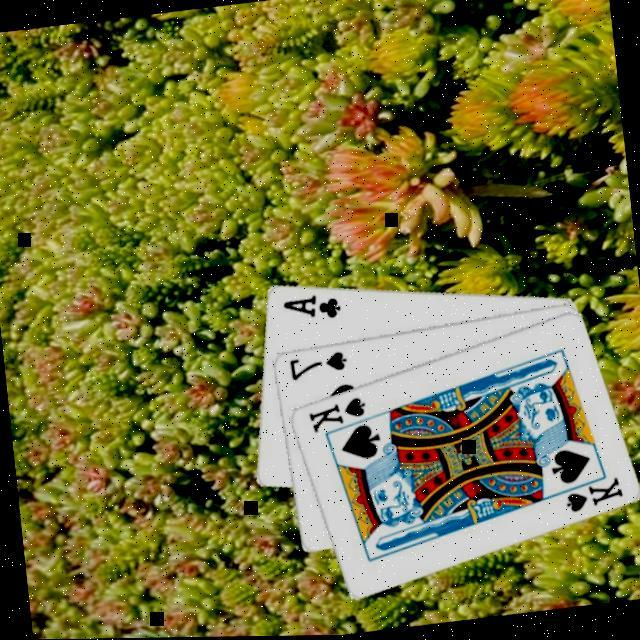7S: (283, 346, 348, 383)
AC: (277, 288, 342, 327)
KS: (549, 470, 624, 518), (302, 392, 369, 435)
